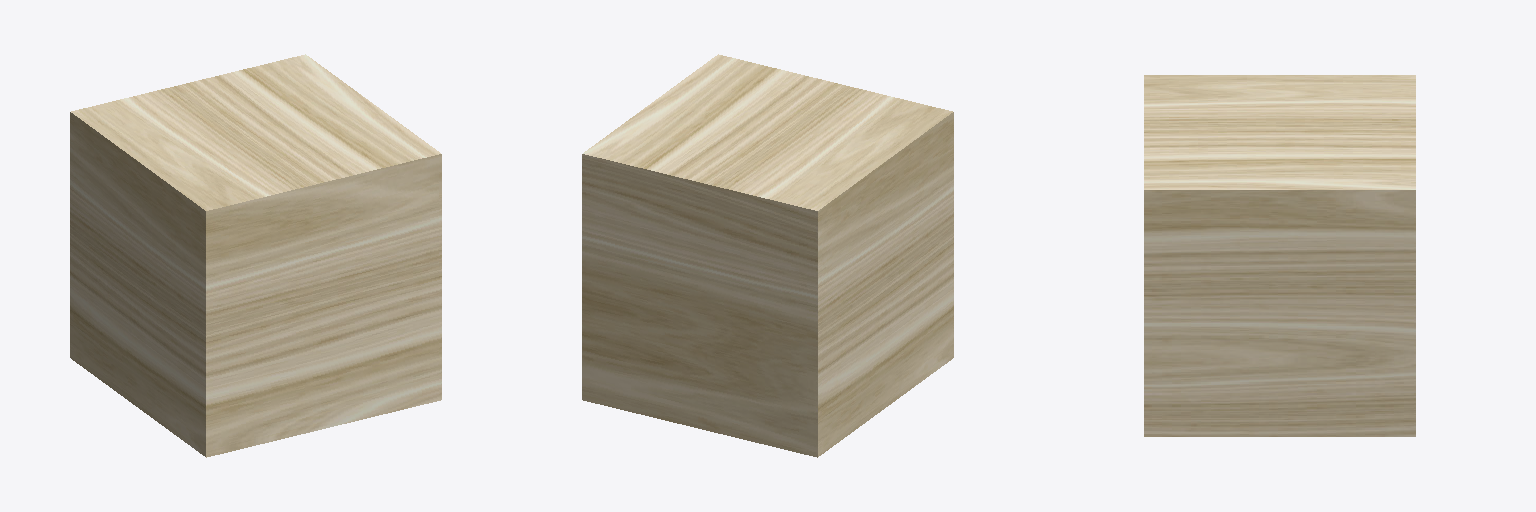
3 renders of one model, left to right at view 1: azimuth 30°, elevation 25°; view 2: azimuth 150°, elevation 25°; view 3: azimuth 270°, elevation 25°, orthographic.
Visible parts, largest first — view 1: Cube; view 2: Cube; view 3: Cube.
Boxes of the visible parts, x1,y1,x2,y2 form: Cube: [70, 54, 441, 457]; Cube: [582, 54, 953, 457]; Cube: [1144, 75, 1415, 436].
Bounding box in the file's own units: 0.3527 × 0.3527 × 0.3527.
1 materials, 1 textured.